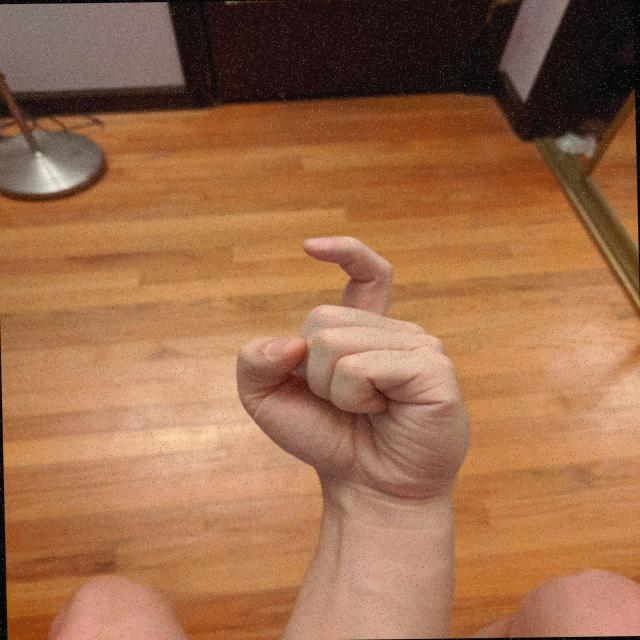X: (228, 229, 482, 506)
